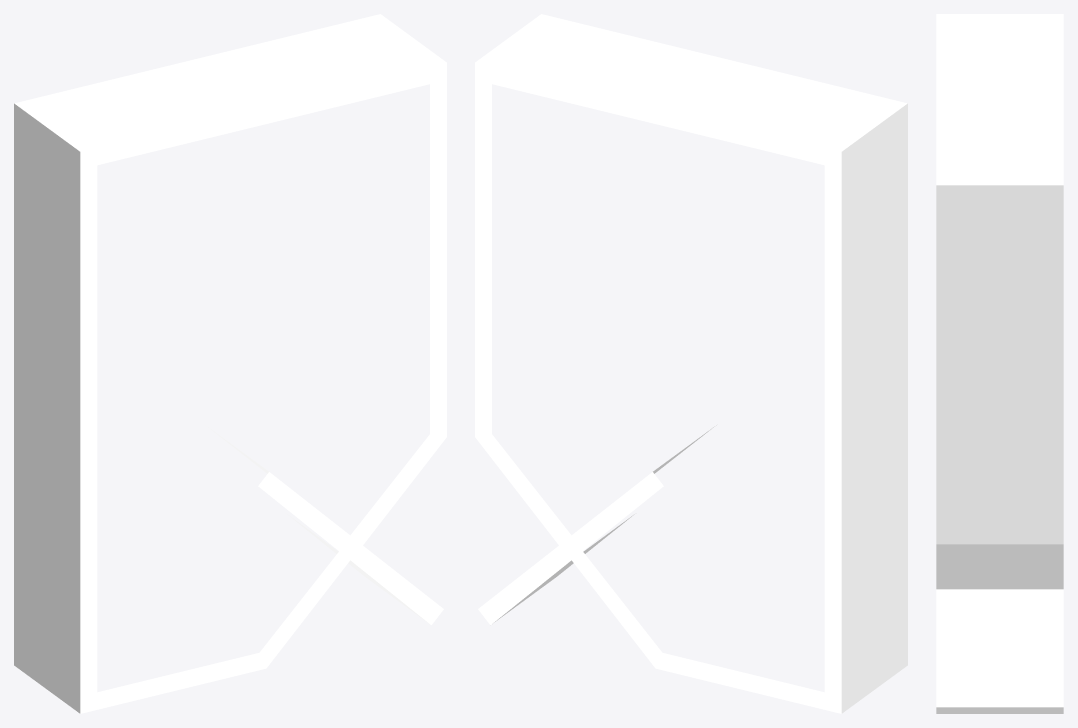
File: 234c78ae-c057-4380-97a6-b7efb3694741.glb
3 views of the same model, side by side, from view 1: azimuth 30°, elevation 25°; view 2: azimuth 150°, elevation 25°; view 3: azimuth 270°, elevation 25° (orthographic). The views are drawn at different scales.
Visible parts, largest first — view 1: q_AlphaProta_White; view 2: q_AlphaProta_White; view 3: q_AlphaProta_White.
Boxes of the visible parts, bbox=[...] form: q_AlphaProta_White: bbox=[14, 14, 446, 713]; q_AlphaProta_White: bbox=[475, 14, 907, 713]; q_AlphaProta_White: bbox=[936, 14, 1063, 713].
Size of what is drawn, in the model's own units: 0.1436 by 0.2105 by 0.045.
2 materials, 2 textured.
